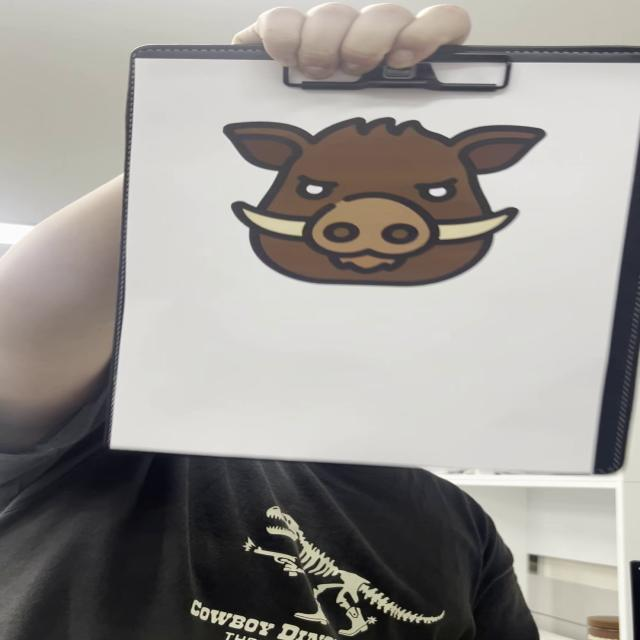animal: (212, 117, 561, 290)
